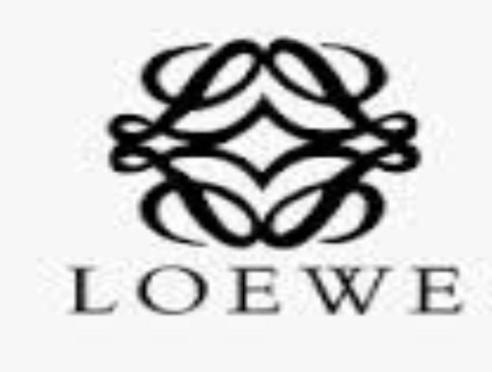LOEWE: (38, 40, 485, 333)
